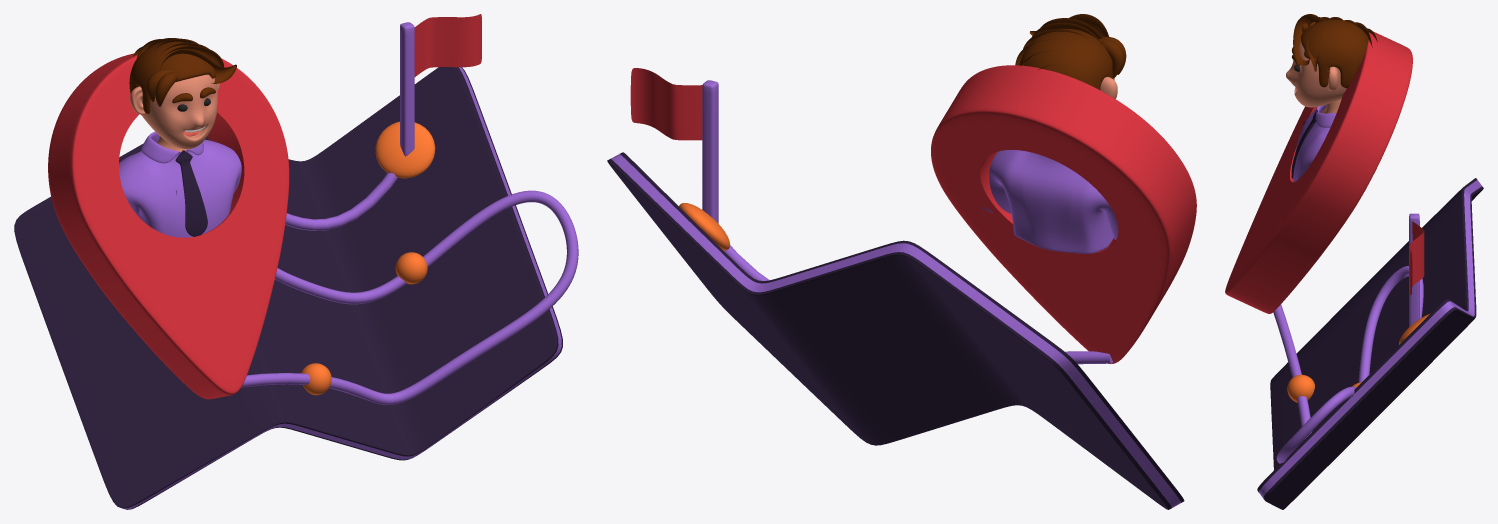
File: customer-journey-3d-animated-icon-239325433169.glb
The picture shows the model from 3 angles, left to right: view 1: azimuth 30°, elevation 25°; view 2: azimuth 150°, elevation 25°; view 3: azimuth 270°, elevation 25°; orthographic projection. The views are drawn at different scales.
Visible parts, largest first — view 1: Plane.001, Cylinder.001, NurbsPath.001, Shirt.001, Sphere, Cube.008, Cube.012, Cube.020, Sphere.001, Sphere.002; view 2: Plane.001, Cylinder.001, Shirt.001, Sphere, Cube.008, NurbsPath.001; view 3: Plane.001, Cylinder.001, Cube.008, NurbsPath.001, Cube.012, Sphere, Shirt.001, Sphere.002.
Part boxes in pixels (<box>): Plane.001: <box>14,67,562,509</box>; Cylinder.001: <box>48,53,289,399</box>; NurbsPath.001: <box>241,172,578,405</box>; Shirt.001: <box>119,131,241,237</box>; Sphere: <box>375,14,481,178</box>; Cube.008: <box>129,38,236,113</box>; Cube.012: <box>130,74,220,149</box>; Cube.020: <box>175,150,207,236</box>; Sphere.001: <box>395,252,427,284</box>; Sphere.002: <box>301,363,331,395</box>; Plane.001: <box>607,152,1184,509</box>; Cylinder.001: <box>931,65,1196,363</box>; Shirt.001: <box>982,150,1118,253</box>; Sphere: <box>630,68,730,250</box>; Cube.008: <box>1015,14,1126,89</box>; NurbsPath.001: <box>724,245,1112,364</box>; Plane.001: <box>1257,178,1483,509</box>; Cylinder.001: <box>1225,31,1412,313</box>; Cube.008: <box>1293,14,1377,88</box>; NurbsPath.001: <box>1273,266,1423,463</box>; Cube.012: <box>1286,41,1346,107</box>; Sphere: <box>1399,213,1430,344</box>; Shirt.001: <box>1293,104,1336,182</box>; Sphere.002: <box>1287,374,1314,402</box>.
Bounding box in the file's own units: 1.93 × 1.69 × 0.9865.
